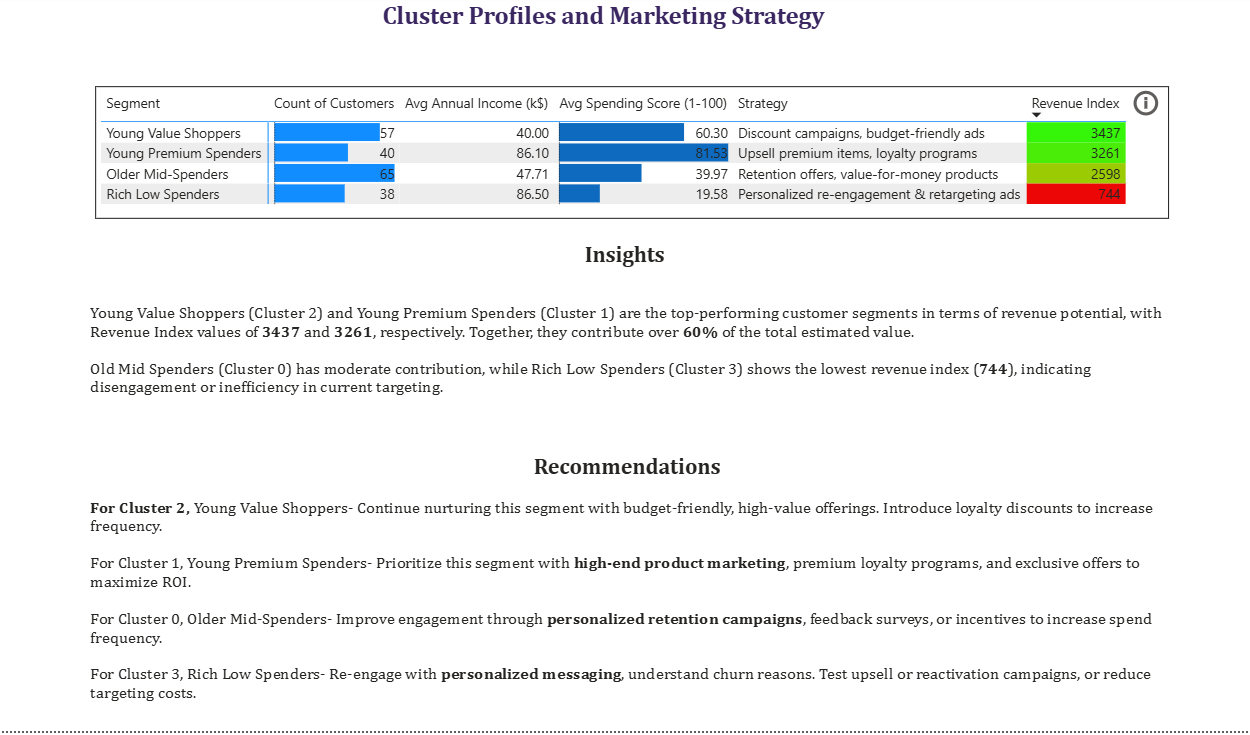

Layout of this report page (visuals, bound fields, positions):
{"tool":"powerbi","page":{"name":"Page 2","canvas":[1280,720],"ordinal":1},"visuals":[{"type":"textbox","box":[133.3,236,1060.2,207.9],"z":0},{"type":"textbox","box":[0,0,1280.3,67.3],"z":1000},{"type":"actionButton","box":[0,0,100,40],"z":2000},{"type":"pivotTable","fields":{"Rows":["ClusterInsights.Segment"],"Values":["CountNonNull(final_customer_segments.CustomerID)","Avg(final_customer_segments.Annual Income (k$))","Avg(final_customer_segments.Spending Score (1-100))","Min(ClusterInsights.Strategy)","Sum(final_customer_segments.RevenueIndex)"]},"box":[143.1,89.3,1050.4,129.6],"z":3000},{"type":"textbox","box":[133.3,443.9,1060.2,276.4],"z":4000},{"type":"actionButton","box":[1154.4,89.3,39.1,33],"z":4001}]}

Visuals, with their boxes on the page's 1280x720 design canvas (x1, y1, x2, y2). These are canvas units, not pixel positions in the 1250x735 screenshot, which may show the page scaled, cropped or inside an application window:
textbox: pyautogui.locateOnScreen(133, 236, 1194, 444)
textbox: pyautogui.locateOnScreen(0, 0, 1280, 67)
actionButton: pyautogui.locateOnScreen(0, 0, 100, 40)
pivotTable - ClusterInsights.Segment x CountNonNull(final_customer_segments.CustomerID): pyautogui.locateOnScreen(143, 89, 1194, 219)
textbox: pyautogui.locateOnScreen(133, 444, 1194, 720)
actionButton: pyautogui.locateOnScreen(1154, 89, 1194, 122)
